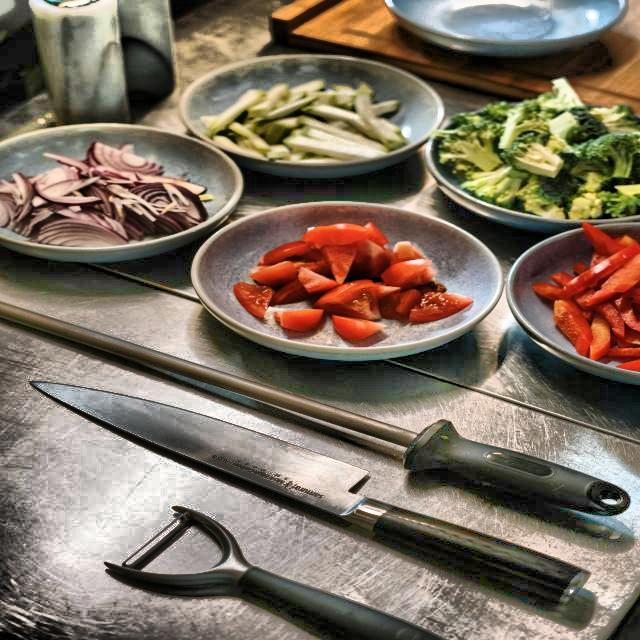knife: (21, 377, 598, 618)
